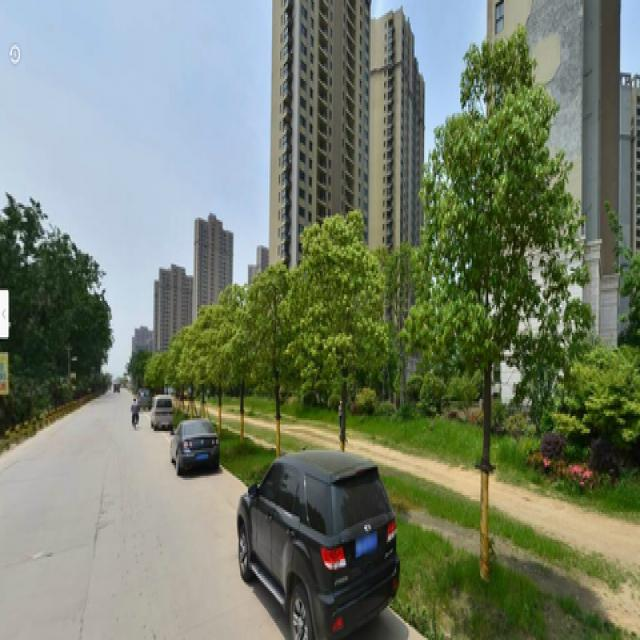cinn: (417, 41, 583, 563)
